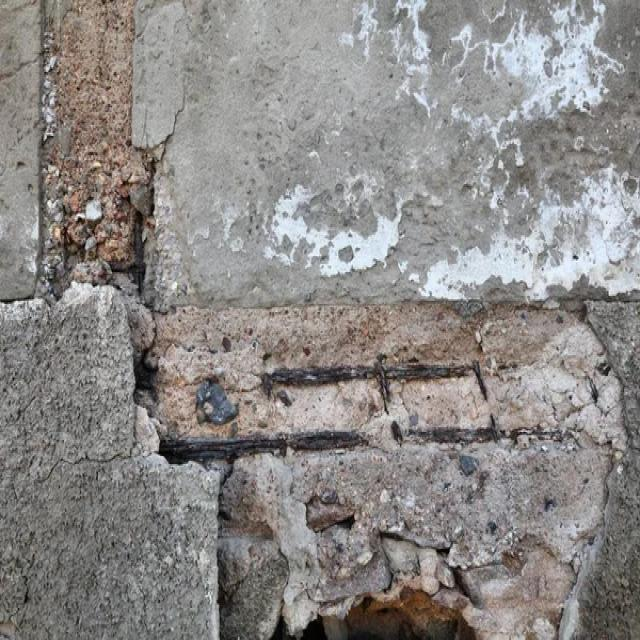Rebar: (46, 0, 624, 451)
